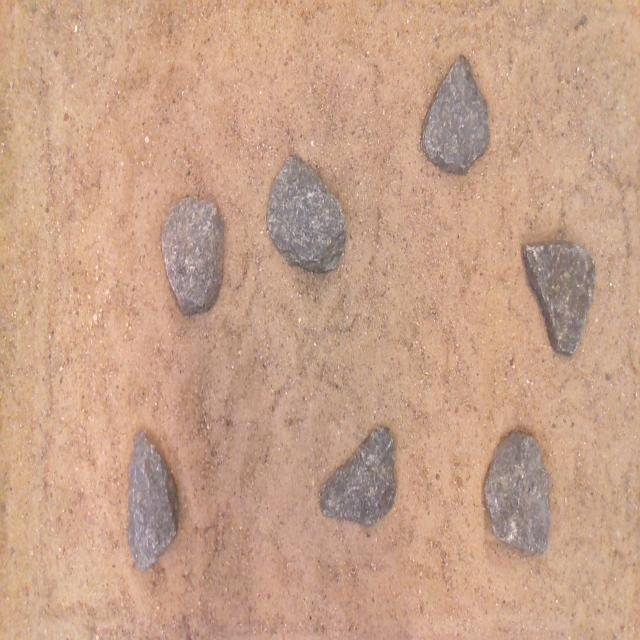rock: (267, 156, 344, 272), (523, 242, 595, 354), (484, 431, 550, 553), (421, 56, 489, 174), (319, 428, 395, 526), (161, 198, 223, 315), (127, 433, 177, 569)
